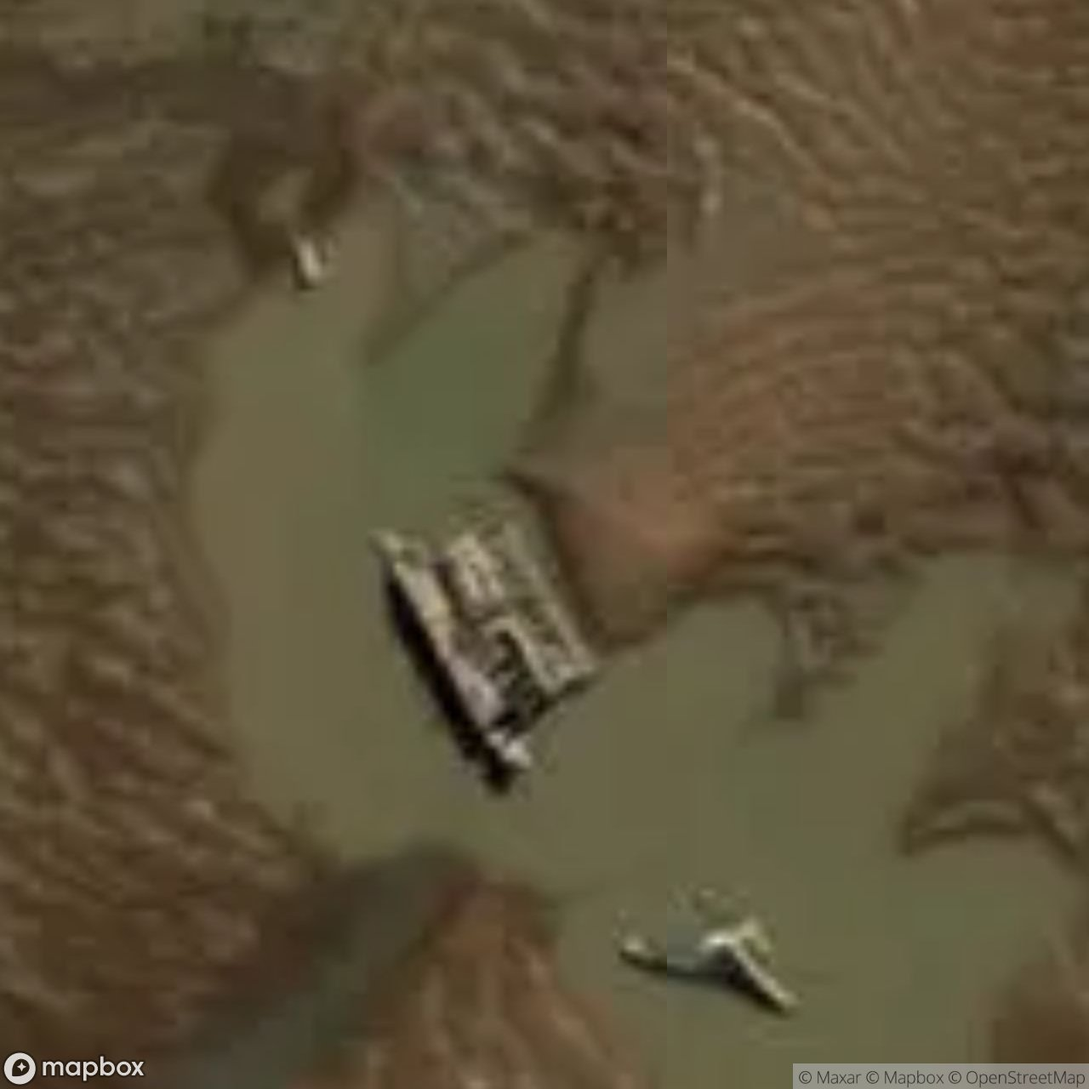Wreck: (318, 459, 834, 1018)
